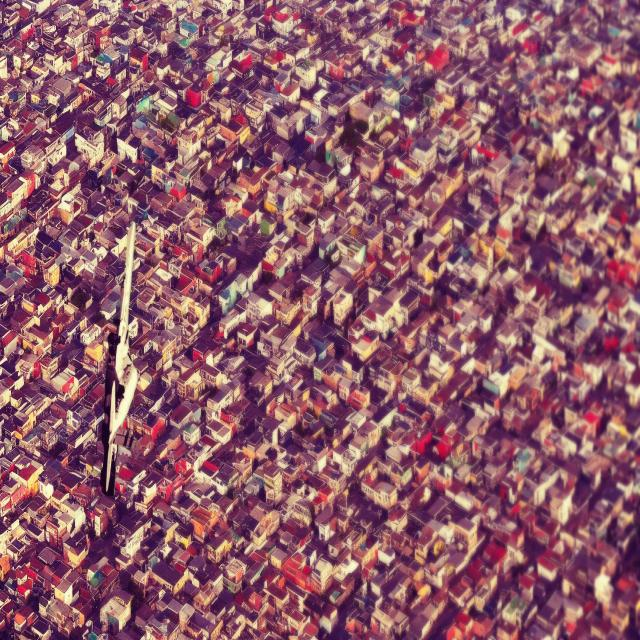airplane: (98, 220, 140, 496)
